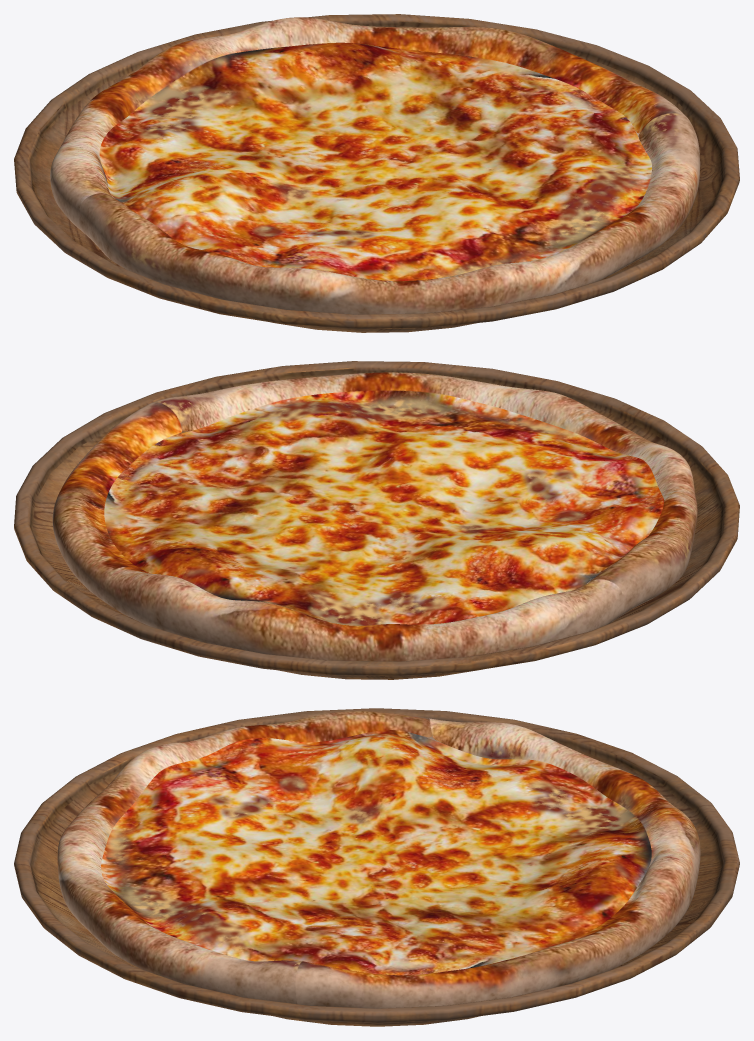
The model's file is example.glb.
3 views of the same model, one above another, from view 1: azimuth 30°, elevation 25°; view 2: azimuth 150°, elevation 25°; view 3: azimuth 270°, elevation 25° (orthographic).
Visible parts, largest first — view 1: piza_low_01:Group259, Object_2_Material__2.001_0; view 2: piza_low_01:Group259, Object_2_Material__2.001_0; view 3: piza_low_01:Group259, Object_2_Material__2.001_0.
Boxes of the visible parts, box(x1,y1,x2,y2) form: piza_low_01:Group259: box(50, 17, 700, 314); Object_2_Material__2.001_0: box(14, 14, 739, 332); piza_low_01:Group259: box(52, 372, 697, 661); Object_2_Material__2.001_0: box(14, 361, 739, 679); piza_low_01:Group259: box(57, 711, 700, 1008); Object_2_Material__2.001_0: box(14, 708, 739, 1026).
Size of the model in its own units: 0.7141 by 0.1073 by 0.7141.
2 materials, 2 textured.
